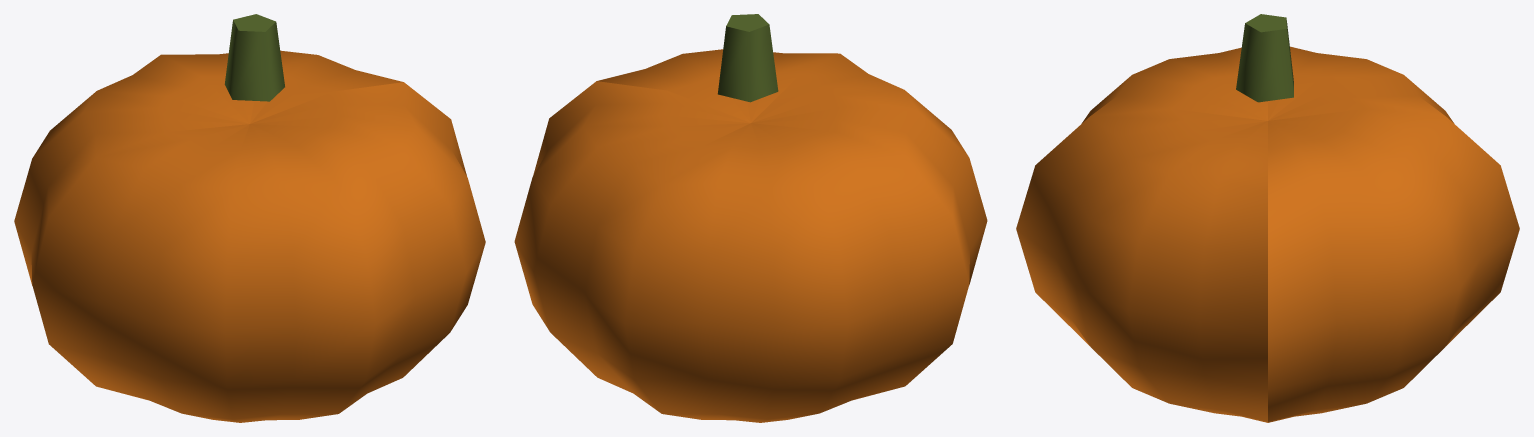
File: field_pumpkin.bd65bcc0.glb
3 views of the same model, side by side, from view 1: azimuth 30°, elevation 25°; view 2: azimuth 150°, elevation 25°; view 3: azimuth 270°, elevation 25° (orthographic).
Parts seen in each view (by area): view 1: field_pumpkin; view 2: field_pumpkin; view 3: field_pumpkin.
Boxes of the visible parts, x1,y1,x2,y2 form: field_pumpkin: (14,14,485,422); field_pumpkin: (514,14,987,422); field_pumpkin: (1016,14,1519,422).
Bounding box in the file's own units: 1.1 × 0.9001 × 1.1.
